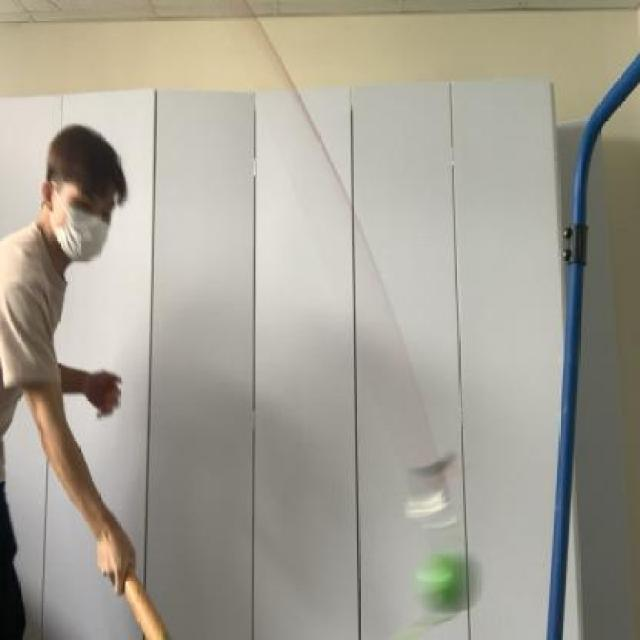baseball: (413, 538, 481, 613)
